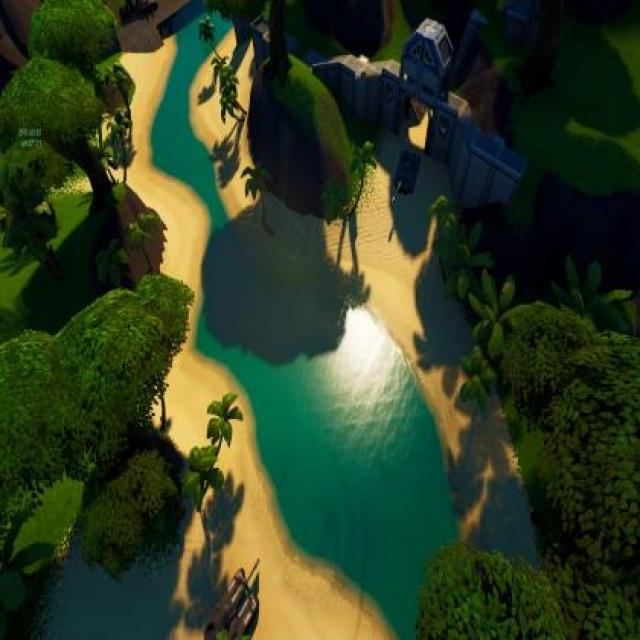tank: (390, 145, 422, 205)
